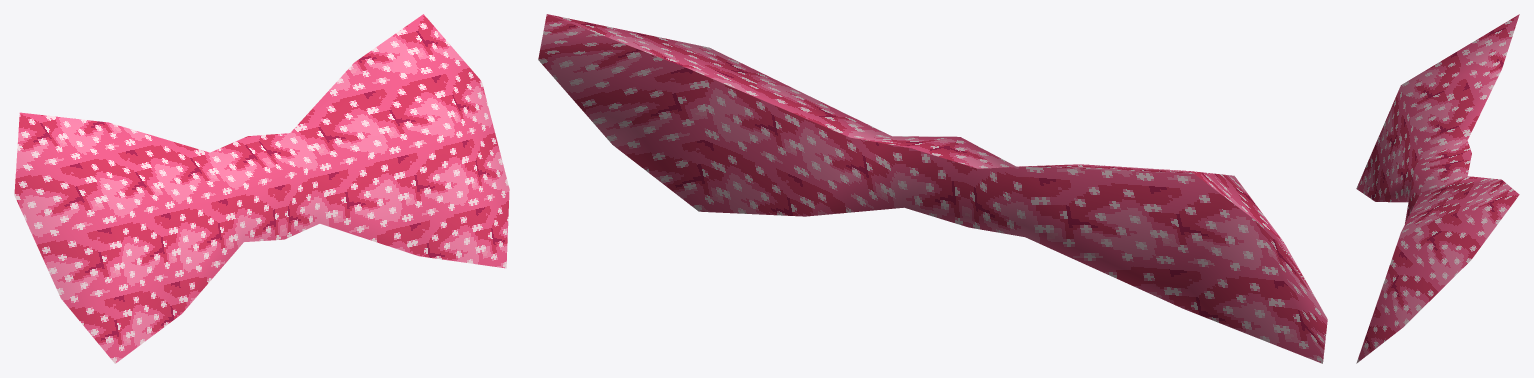
The model's file is code_head97.gltf.
3 views of the same model, side by side, from view 1: azimuth 30°, elevation 25°; view 2: azimuth 150°, elevation 25°; view 3: azimuth 270°, elevation 25° (orthographic). The views are drawn at different scales.
Visible parts, largest first — view 1: code_head97; view 2: code_head97; view 3: code_head97.
Part boxes in pixels (x1,y1,x2,y2): code_head97: (14, 14, 509, 363); code_head97: (538, 14, 1327, 363); code_head97: (1356, 14, 1519, 363).
Bounding box in the file's own units: 0.7495 × 0.2876 × 0.2476.
Materials: 1 (1 with a texture image).
